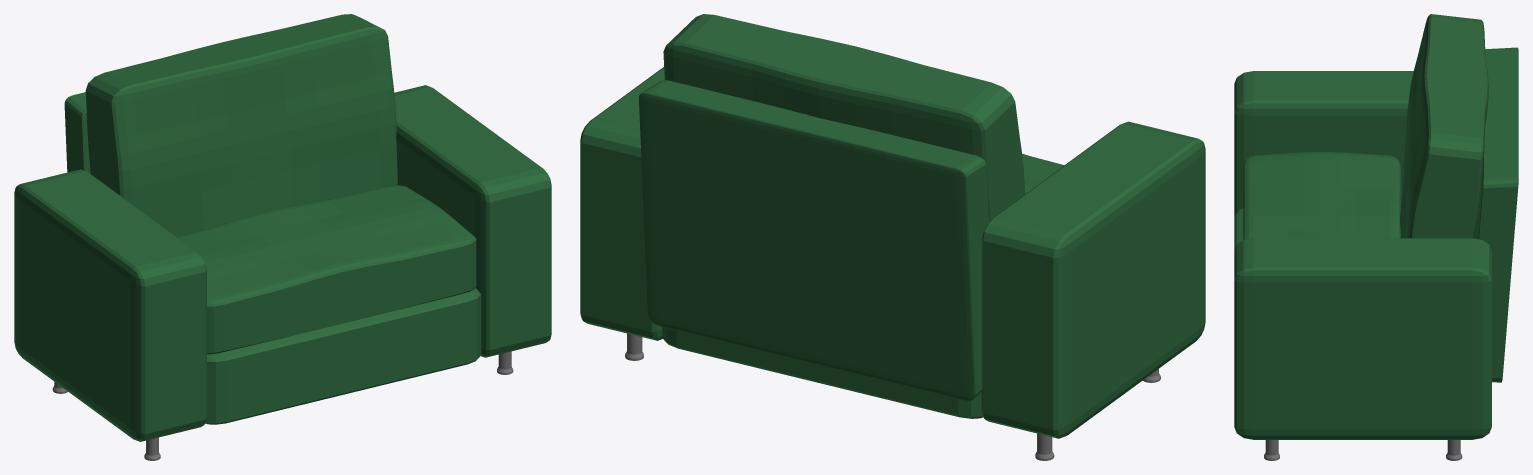
The model's file is Sofa2_ArmChair.fbx.
3 renders of one model, left to right at view 1: azimuth 30°, elevation 25°; view 2: azimuth 150°, elevation 25°; view 3: azimuth 270°, elevation 25°, orthographic. The views are drawn at different scales.
Visible parts, largest first — view 1: Sofa2ArmChair; view 2: Sofa2ArmChair; view 3: Sofa2ArmChair.
Boxes of the visible parts, bbox=[...] form: Sofa2ArmChair: bbox=[14, 14, 551, 460]; Sofa2ArmChair: bbox=[580, 14, 1205, 460]; Sofa2ArmChair: bbox=[1234, 14, 1518, 460].
Bounding box in the file's own units: 435 × 300 × 260.
